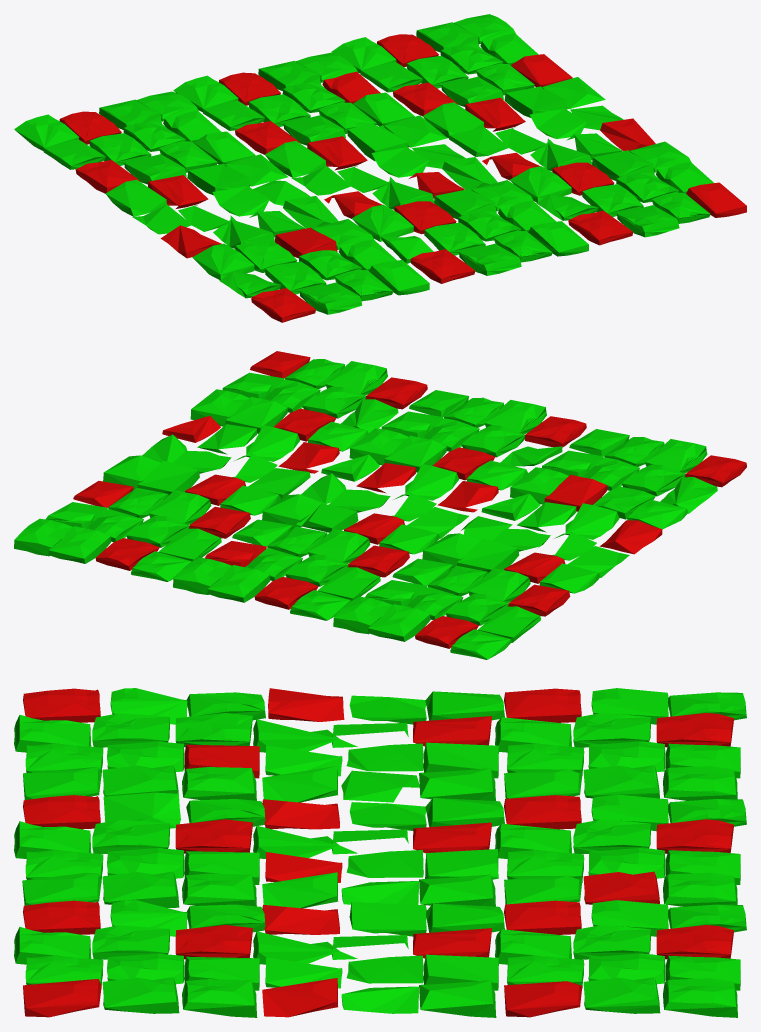
Rendered from Cobblestone_04.fbx.
The picture shows the model from 3 angles, top to bottom: view 1: azimuth 30°, elevation 25°; view 2: azimuth 150°, elevation 25°; view 3: azimuth 270°, elevation 25°; orthographic projection. The views are drawn at different scales.
Visible parts, largest first — view 1: Plane.009; view 2: Plane.009; view 3: Plane.009.
Boxes of the visible parts, box(x1,y1,x2,y2) form: Plane.009: box(14, 14, 746, 322); Plane.009: box(14, 351, 746, 659); Plane.009: box(14, 688, 746, 1017).
Size of the model in its own units: 616 by 19.45 by 602.
